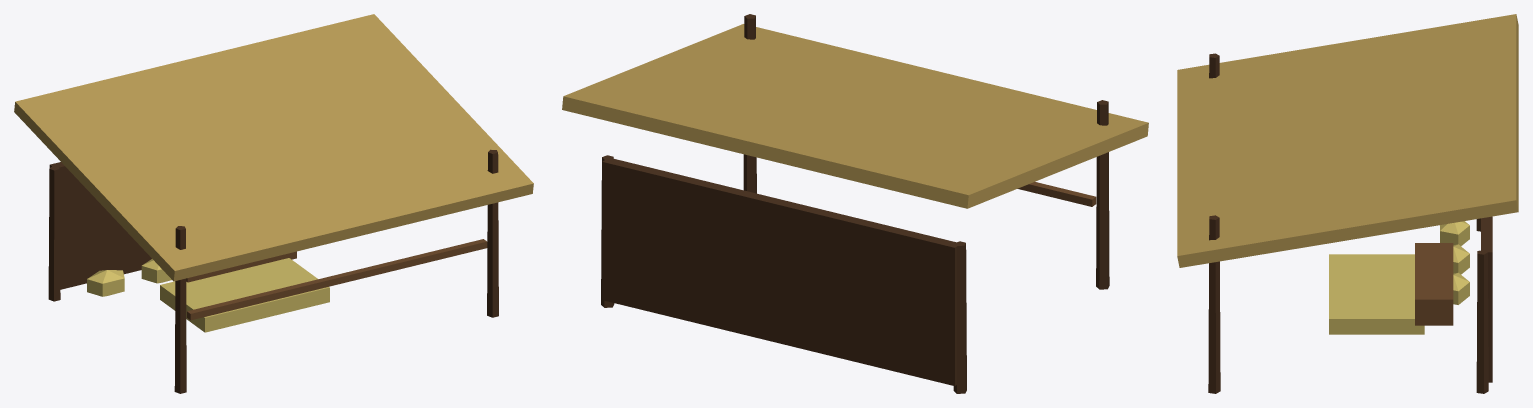
File: a2m_stable.glb
The picture shows the model from 3 angles, left to right: view 1: azimuth 30°, elevation 25°; view 2: azimuth 150°, elevation 25°; view 3: azimuth 270°, elevation 25°; orthographic projection. The views are drawn at different scales.
Parts seen in each view (by area): view 1: a2m_stable; view 2: a2m_stable; view 3: a2m_stable.
Boxes of the visible parts, <box> form: a2m_stable: <box>14,14,533,393</box>; a2m_stable: <box>562,14,1148,393</box>; a2m_stable: <box>1177,14,1518,393</box>.
Bounding box in the file's own units: 4.6 × 2.34 × 3.57.
